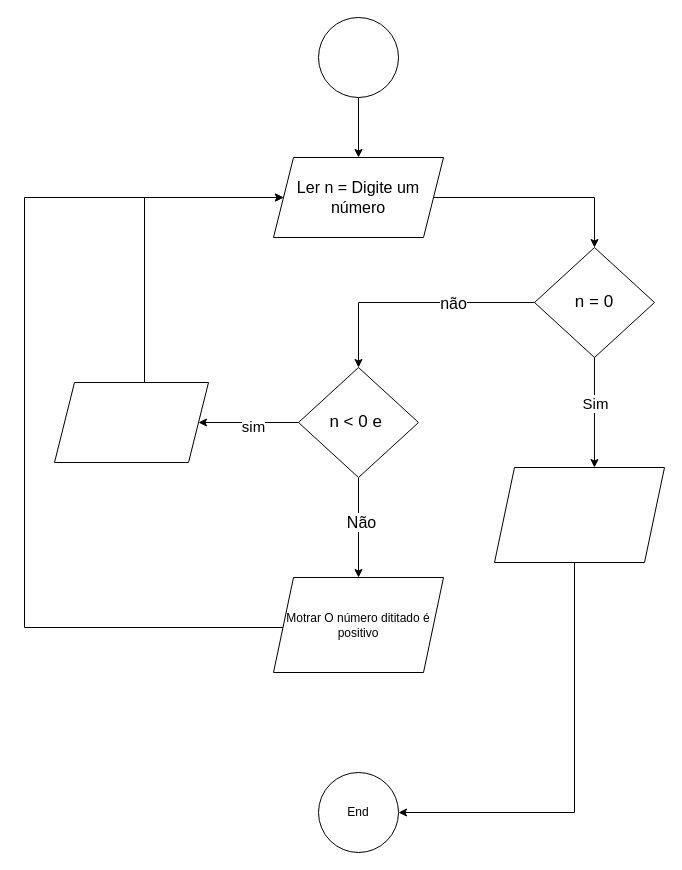
This 682x870 diagram has some shape labels left out. The centre of each missing label's shape, as x and y in pixels:
Inico: the point at 358,57
Mostrar Digitar 0 encerra o prograa: the point at 579,514
Motrar O número digitado é negativo: the point at 131,422
